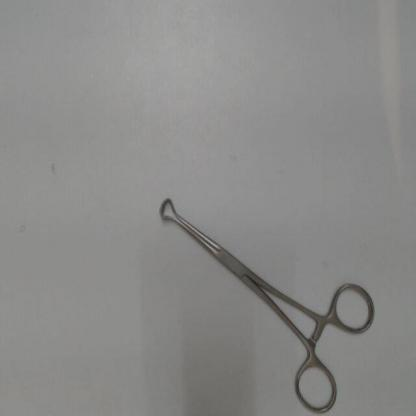Babcock Tissue Forceps: (156, 192, 380, 414)
